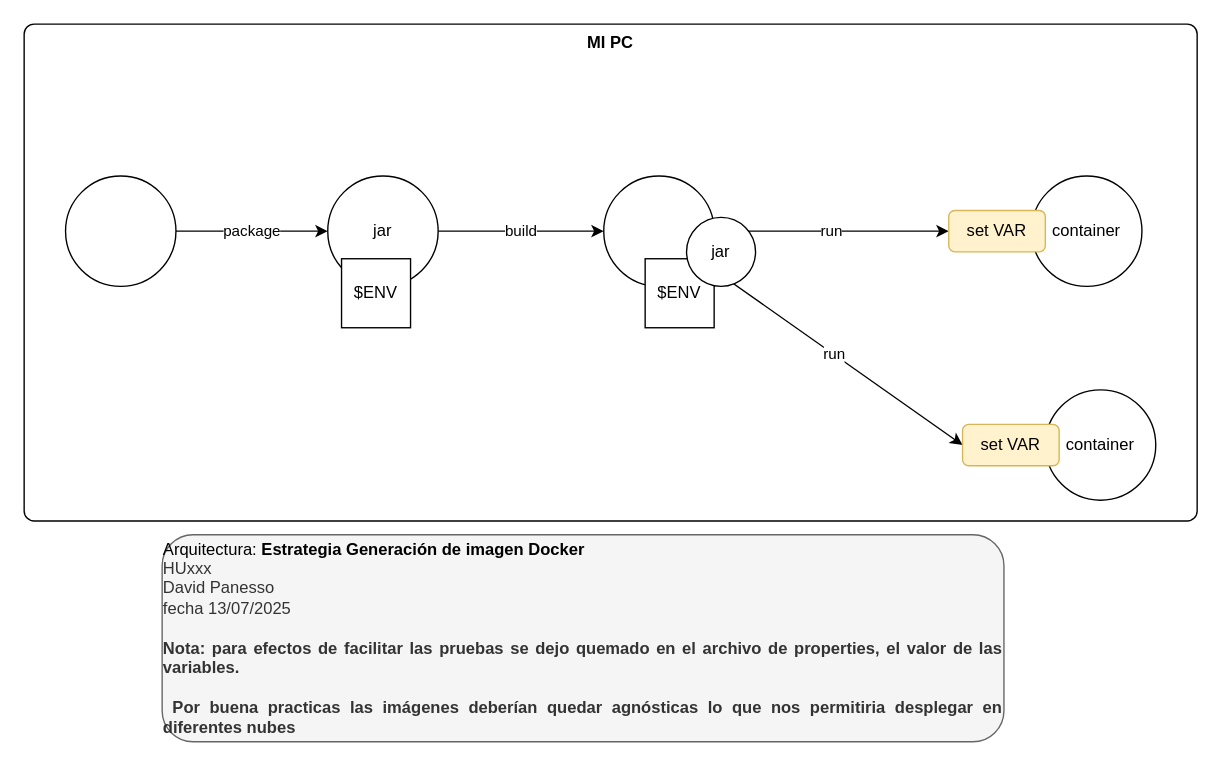
The diagram is 1221 pixels wide and 766 high, and some of its shapes have lost their labels. The box of each missing label's shape, as (x1, y1, x2, y2) in pixels:
codigo: (64, 175, 176, 286)
img: (602, 175, 714, 286)
